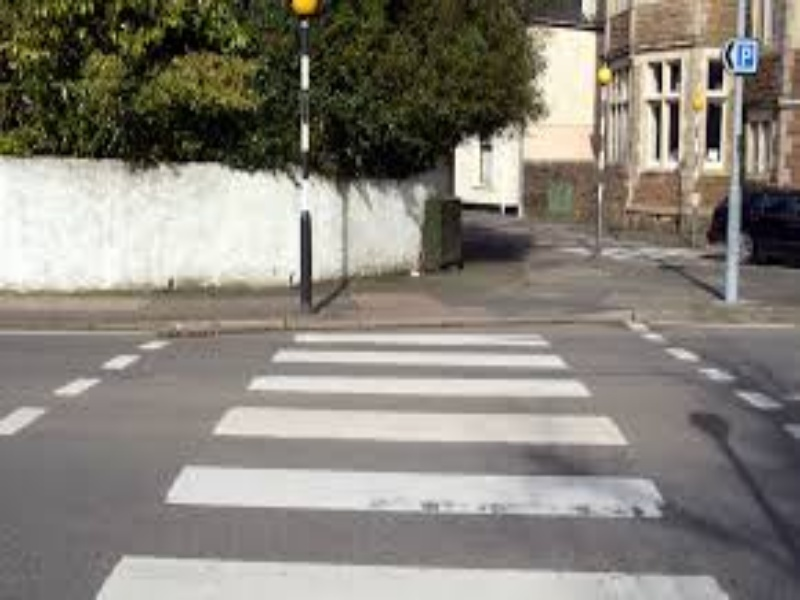zebra cross: (90, 330, 730, 597)
